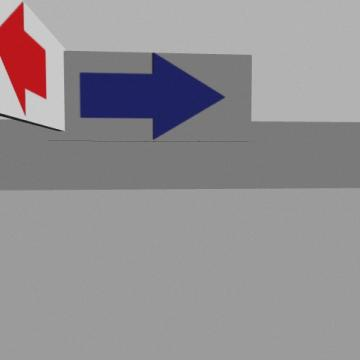blue_right: (80, 53, 224, 139)
red_left: (0, 3, 46, 115)
